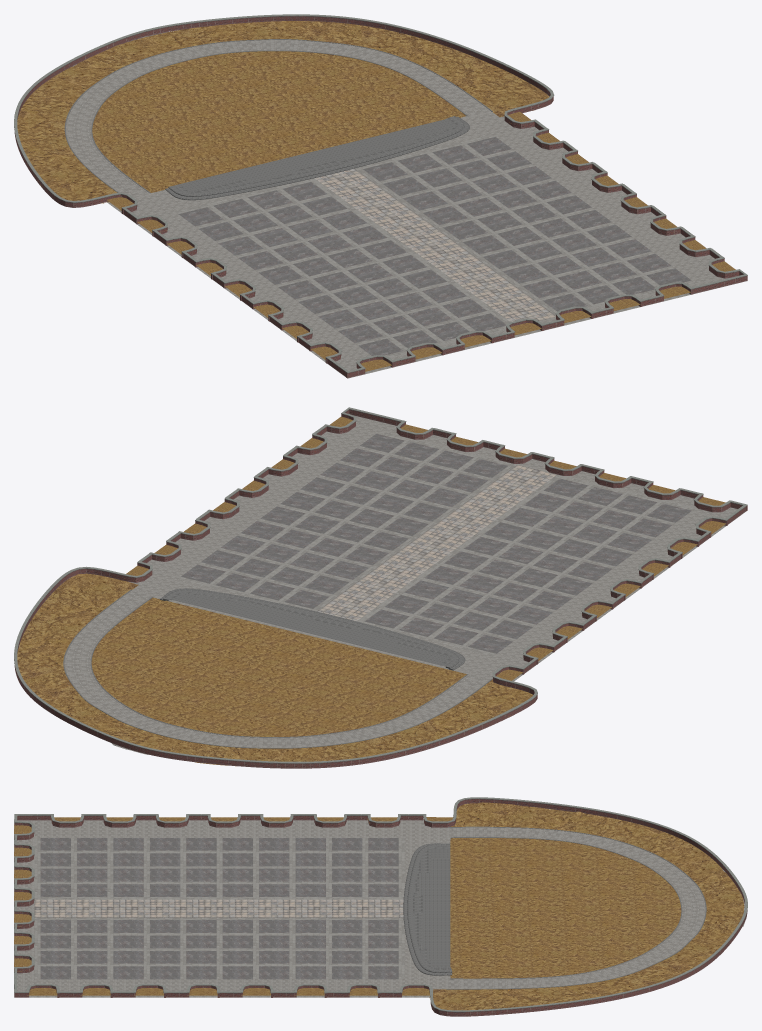
The model's file is Env.fbx.
3 renders of one model, top to bottom at view 1: azimuth 30°, elevation 25°; view 2: azimuth 150°, elevation 25°; view 3: azimuth 270°, elevation 25°, orthographic. The views are drawn at different scales.
Visible parts, largest first — view 1: Env; view 2: Env; view 3: Env.
Boxes of the visible parts, left/top/right/bottom form: Env: left=14, top=14, right=747, bottom=378; Env: left=14, top=407, right=747, bottom=768; Env: left=14, top=797, right=747, bottom=1016.
Size of the model in its own units: 19592 by 281 by 28349.
